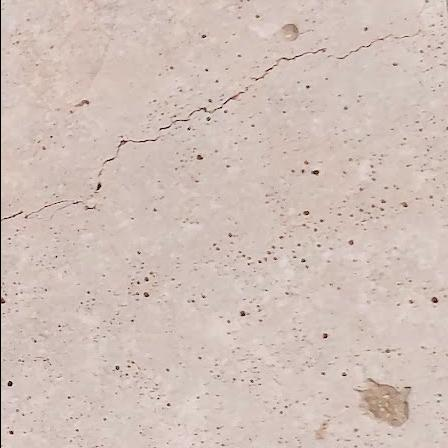crack: (0, 0, 443, 256)
